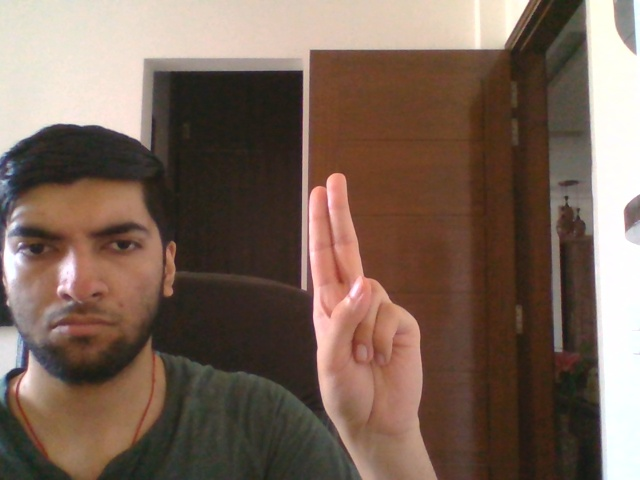LetterU: (308, 169, 428, 442)
